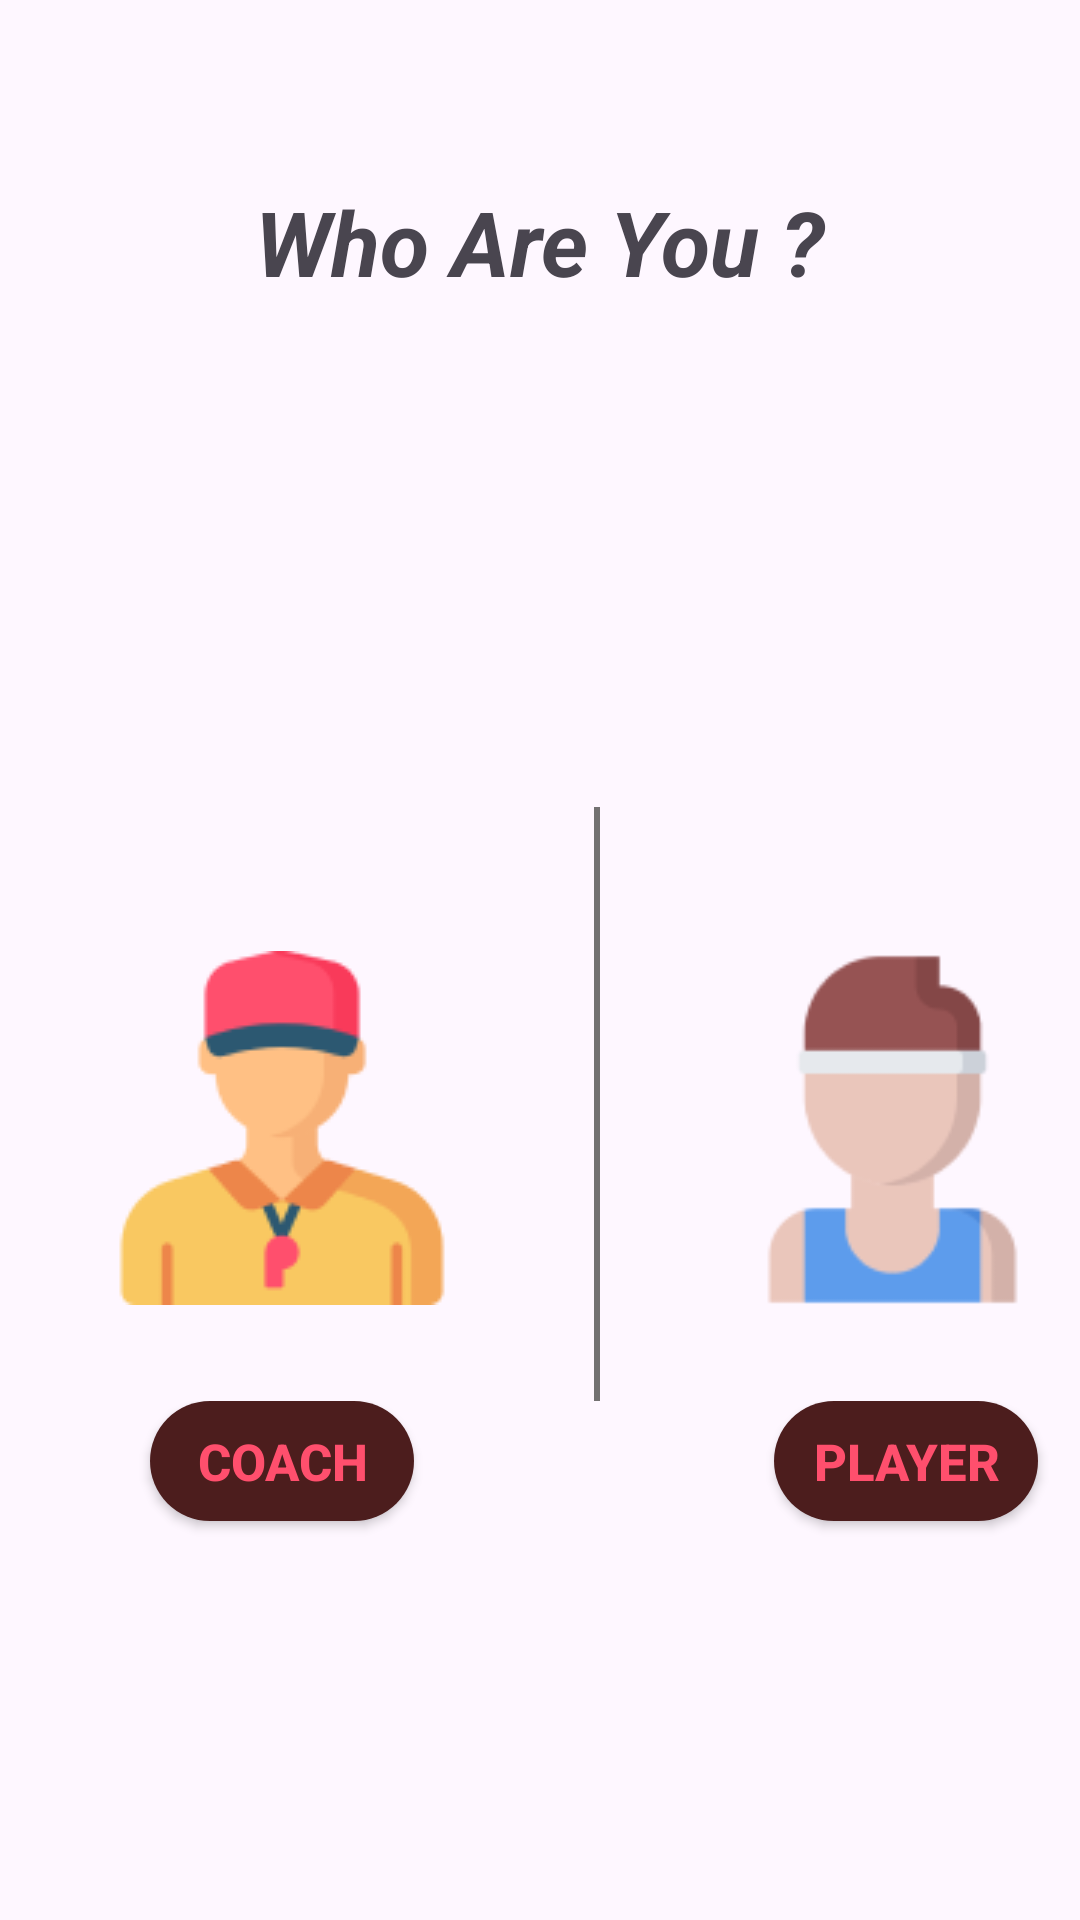

Locate icon controls on the screen. Image size 1080*1920, boxes as (x1, y1, x2, y2).
sportsman: (769, 955, 1017, 1304)
